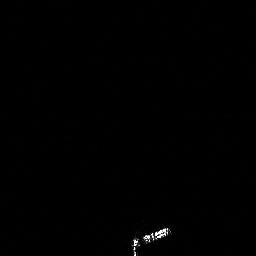ship: (130, 223, 174, 256)
